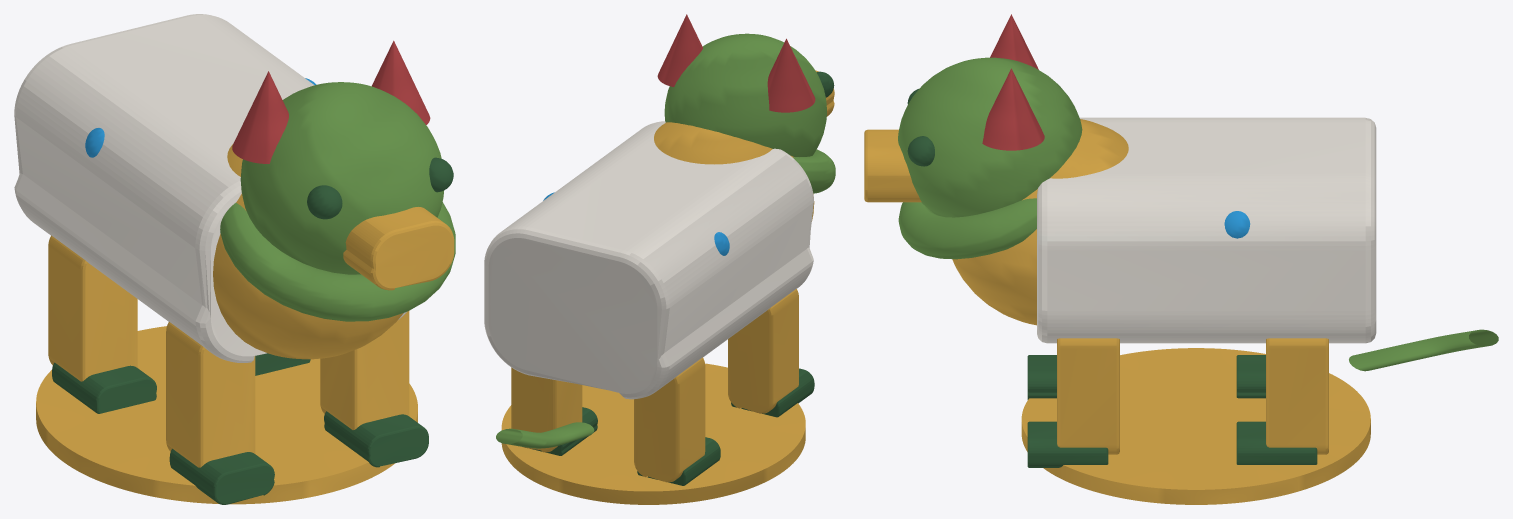
File: 0292_古生代动物图鉴_房角石.glb
3 renders of one model, left to right at view 1: azimuth 30°, elevation 25°; view 2: azimuth 150°, elevation 25°; view 3: azimuth 270°, elevation 25°, orthographic. The views are drawn at different scales.
Parts seen in each view (by area): view 1: card_0292; view 2: card_0292; view 3: card_0292.
Boxes of the visible parts, x1,y1,x2,y2 form: card_0292: [14, 14, 455, 504]; card_0292: [484, 14, 835, 504]; card_0292: [864, 14, 1498, 504].
Size of the model in its own units: 0.774 by 1 by 1.46.
